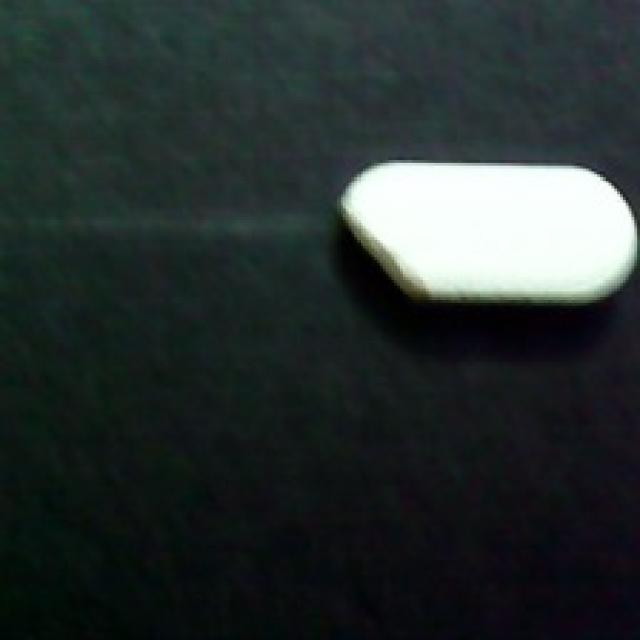defected: (331, 157, 640, 314)
